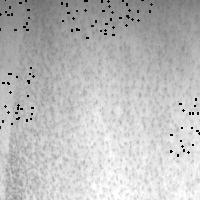pitted_surface: (2, 1, 196, 197), (61, 0, 116, 37), (0, 67, 32, 126), (93, 0, 150, 33), (170, 98, 200, 154), (0, 0, 28, 30)
